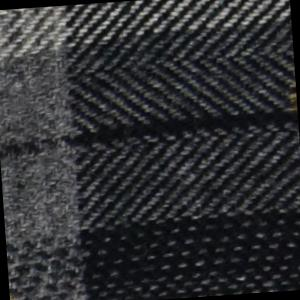Stain: (275, 75, 300, 130), (10, 289, 27, 300)
